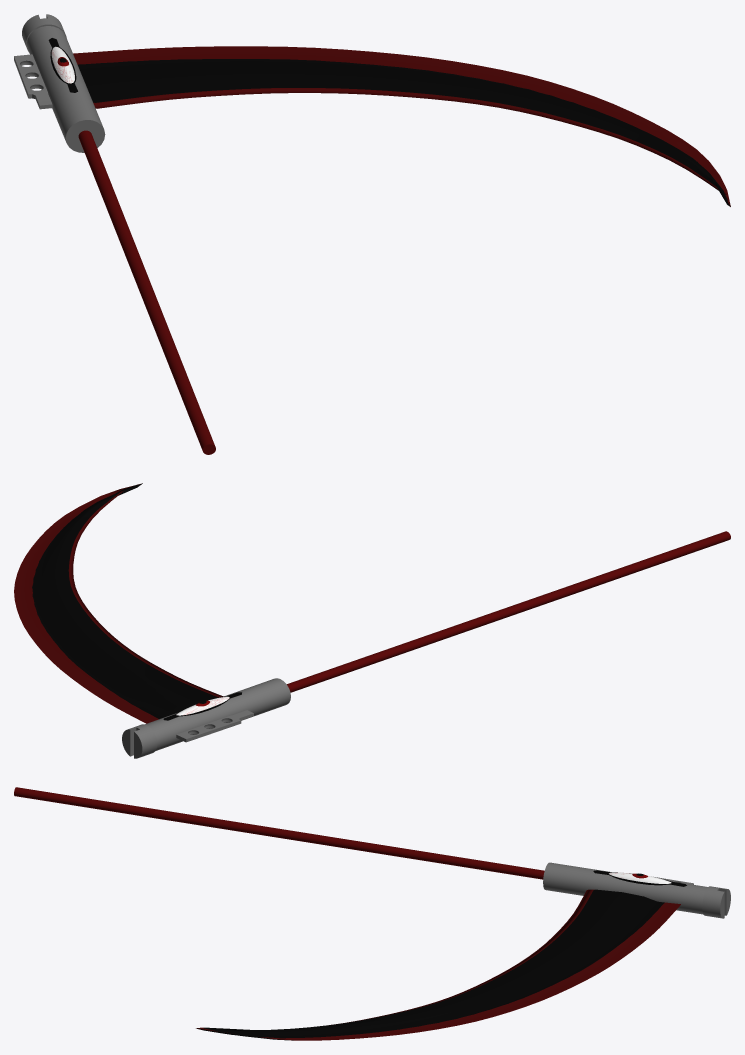
The model's file is soul_eater_scythe.glb.
The picture shows the model from 3 angles, top to bottom: view 1: azimuth 30°, elevation 25°; view 2: azimuth 150°, elevation 25°; view 3: azimuth 270°, elevation 25°; orthographic projection. The views are drawn at different scales.
Parts seen in each view (by area): view 1: scytheMB:polySurface82, scytheMB:polySurface81, scytheMB:polySurface80, scytheMB:polySurface78; view 2: scytheMB:polySurface82, scytheMB:polySurface81, scytheMB:polySurface80, scytheMB:polySurface74, scytheMB:polySurface78; view 3: scytheMB:polySurface82, scytheMB:polySurface81, scytheMB:polySurface80, scytheMB:polySurface74.
Part boxes in pixels (x1,y1,x2,y2): scytheMB:polySurface82: [73, 46, 730, 206]; scytheMB:polySurface81: [78, 130, 215, 454]; scytheMB:polySurface80: [26, 26, 105, 152]; scytheMB:polySurface78: [14, 54, 52, 109]; scytheMB:polySurface82: [14, 483, 223, 723]; scytheMB:polySurface81: [287, 531, 730, 692]; scytheMB:polySurface80: [145, 678, 290, 750]; scytheMB:polySurface74: [122, 724, 157, 758]; scytheMB:polySurface78: [176, 710, 253, 742]; scytheMB:polySurface82: [196, 889, 680, 1040]; scytheMB:polySurface81: [14, 787, 544, 879]; scytheMB:polySurface80: [543, 862, 707, 914]; scytheMB:polySurface74: [702, 886, 730, 918].
Size of what is drawn, in the model's own units: 7.34 by 0.4126 by 8.88.
Materials: 6 (1 with a texture image).
